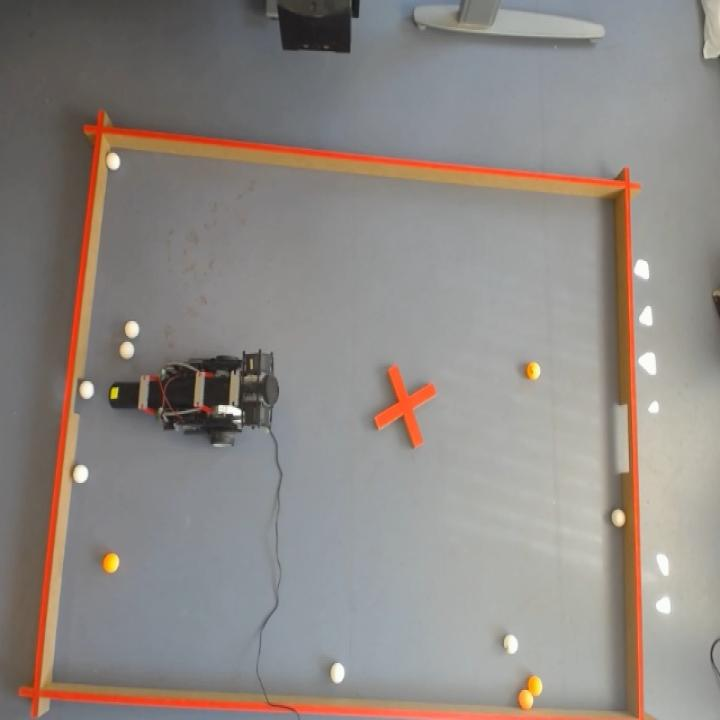orange: (526, 674, 544, 698), (102, 551, 120, 575), (516, 690, 535, 712), (525, 359, 541, 380)
robot: (108, 350, 279, 446)
robot-front: (109, 382, 135, 408)
white: (328, 660, 346, 686), (502, 632, 520, 656), (122, 318, 140, 340), (119, 338, 136, 360), (78, 380, 96, 400), (611, 507, 628, 528), (105, 150, 121, 172), (73, 463, 89, 484)
